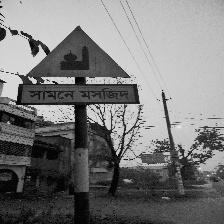Mosque in front: (20, 25, 138, 106)
